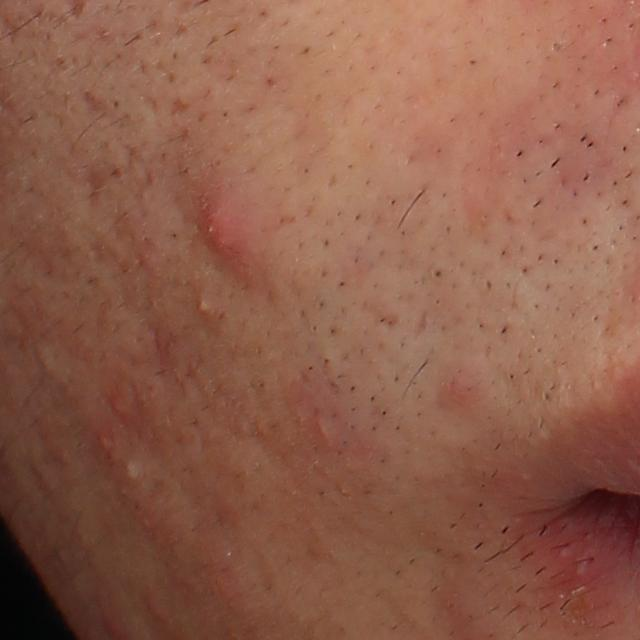atrophic_scar: (84, 164, 107, 207)
papule: (195, 204, 247, 266), (439, 362, 481, 411), (143, 597, 172, 629), (109, 395, 134, 422), (90, 427, 114, 454)
pustule: (121, 456, 148, 485)
